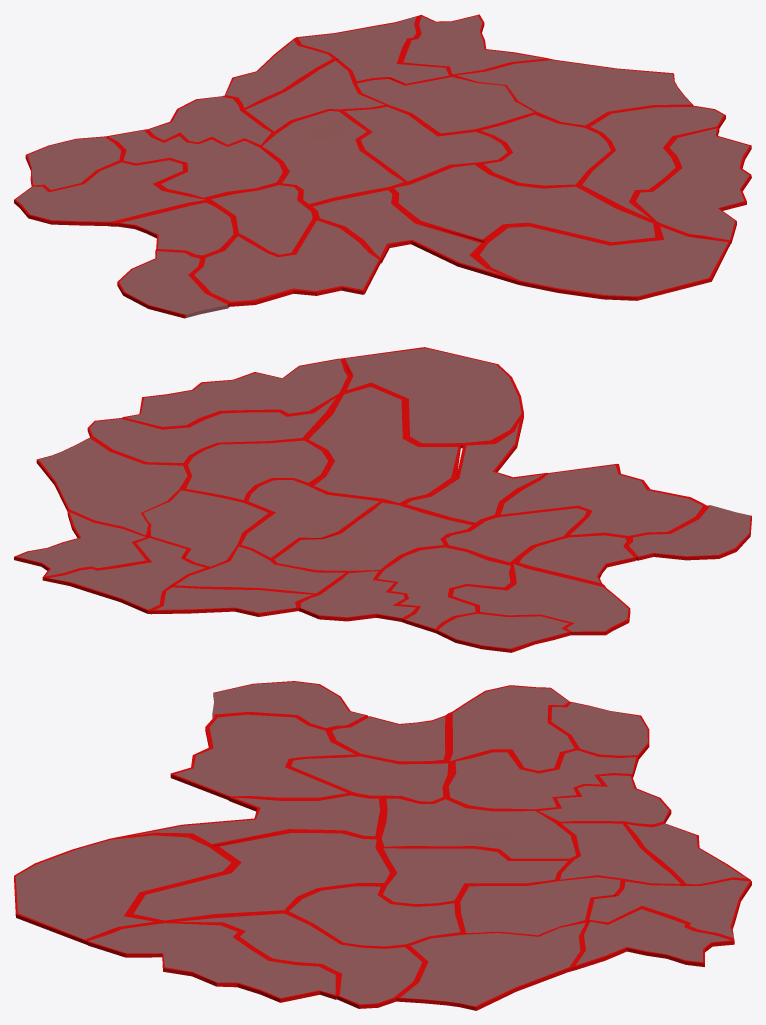
File: map sua vien (1).fbx
3 views of the same model, one above another, from view 1: azimuth 30°, elevation 25°; view 2: azimuth 150°, elevation 25°; view 3: azimuth 270°, elevation 25° (orthographic). The views are drawn at different scales.
Parts seen in each view (by area): view 1: map15, map14, map7, map22, map16, map17, map9, map3, map5, map18, map13, map19 (+10 smaller); view 2: map15, map14, map7, map22, map16, map17, map9, map3, map5, map18, map13, map19 (+10 smaller); view 3: map15, map14, map7, map22, map16, map17, map9, map3, map5, map18, map13, map19 (+10 smaller).
Part boxes in pixels (x1,y1,x2,y2): map15: (474, 223, 730, 300); map14: (390, 163, 658, 243); map7: (191, 217, 380, 306); map22: (453, 59, 693, 127); map16: (633, 127, 751, 243); map17: (575, 106, 725, 223); map9: (260, 110, 406, 205); map3: (14, 159, 206, 226); map5: (105, 129, 285, 198); map18: (476, 113, 614, 187); map13: (341, 105, 509, 182); map19: (354, 75, 536, 135); map15: (340, 347, 523, 448); map14: (306, 385, 460, 504); map7: (495, 464, 706, 537); map22: (36, 436, 190, 536); map16: (122, 358, 351, 427); map17: (87, 393, 341, 463); map9: (272, 501, 475, 571); map3: (450, 563, 630, 635); map5: (376, 546, 513, 633); map18: (183, 439, 331, 501); map13: (239, 479, 382, 559); map19: (141, 489, 272, 567); map15: (14, 833, 236, 944); map14: (130, 830, 394, 921); map7: (170, 713, 359, 799); map22: (395, 921, 588, 1010); map16: (87, 922, 338, 1002); map17: (163, 910, 424, 1008); map9: (376, 796, 578, 859); map3: (447, 685, 576, 771); map5: (446, 749, 638, 809); map18: (286, 884, 462, 947); map13: (380, 847, 570, 905); map19: (456, 876, 623, 936).
Size of the model in its own units: 85.4 by 0.5481 by 81.62.
